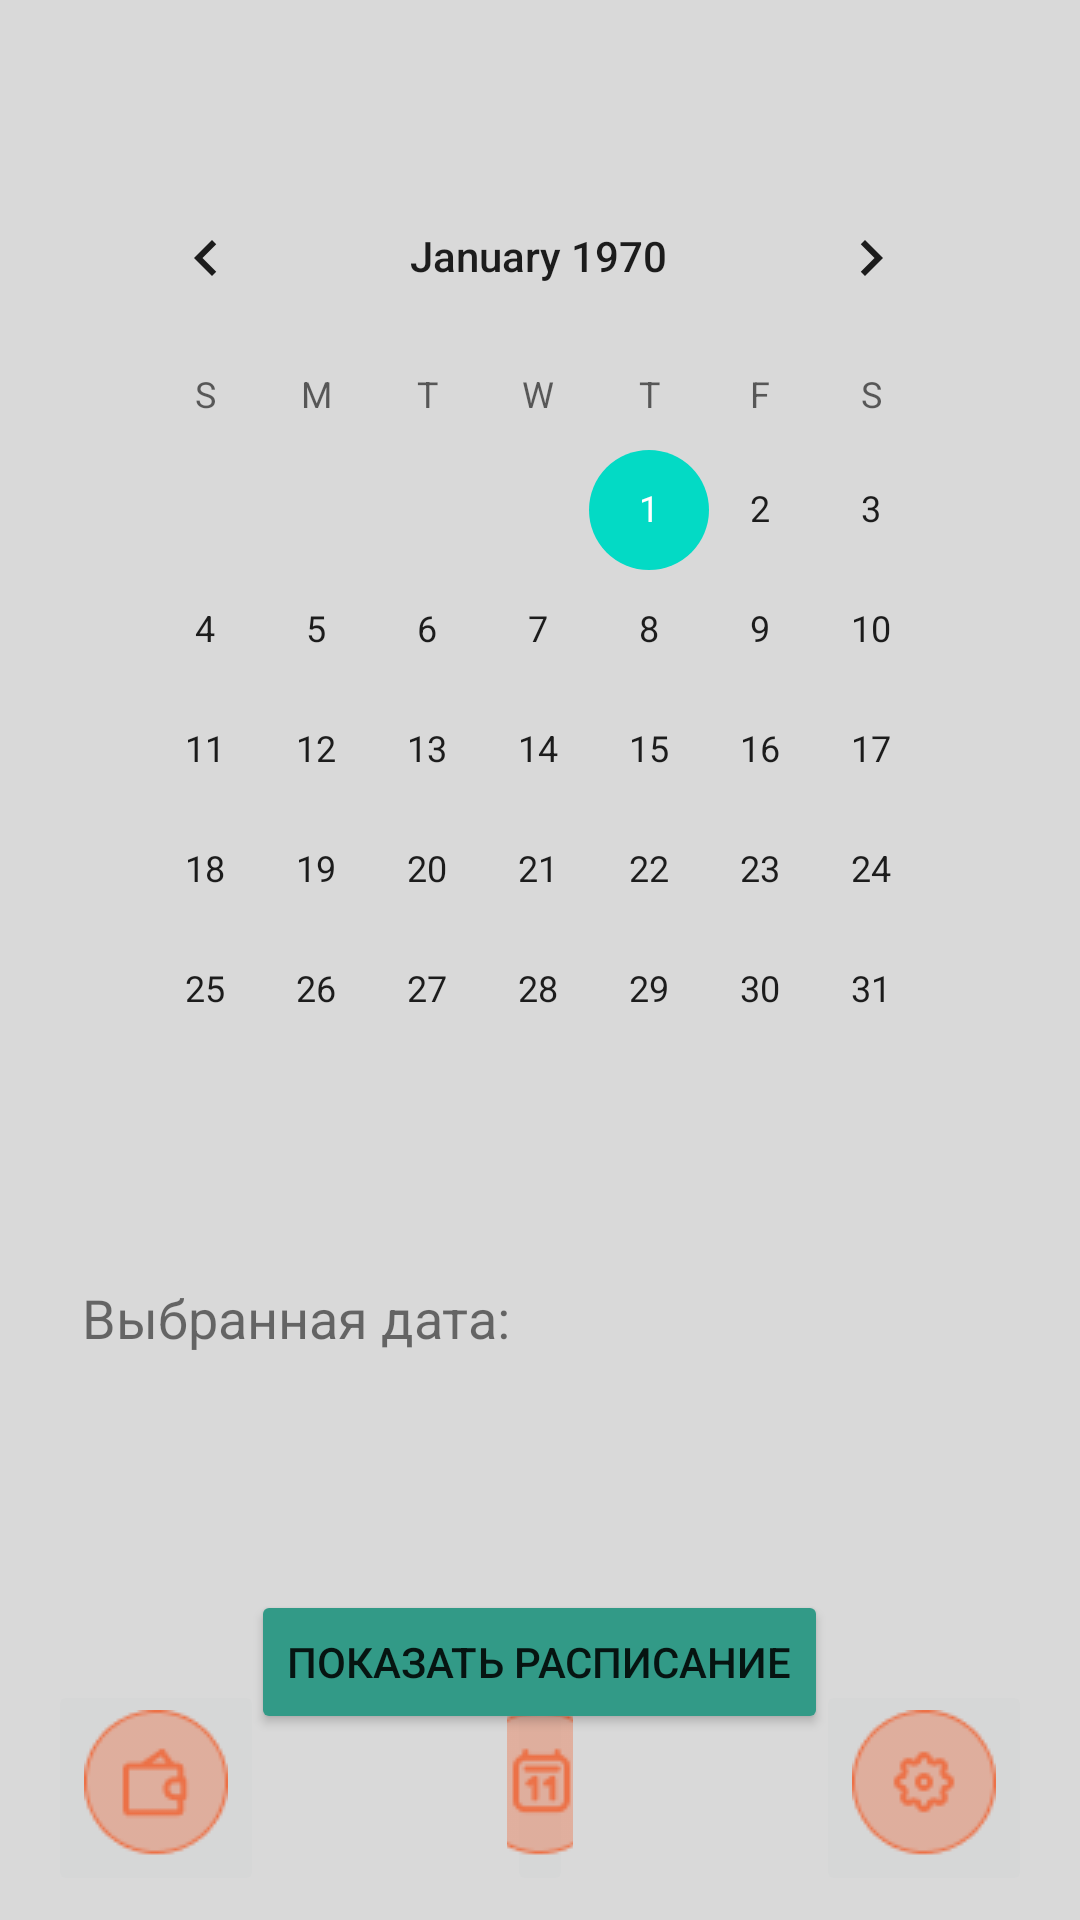

Icon click points for this 1080 × 1920 phone screenshot, format point (x, y):
sett: point (924, 1782)
